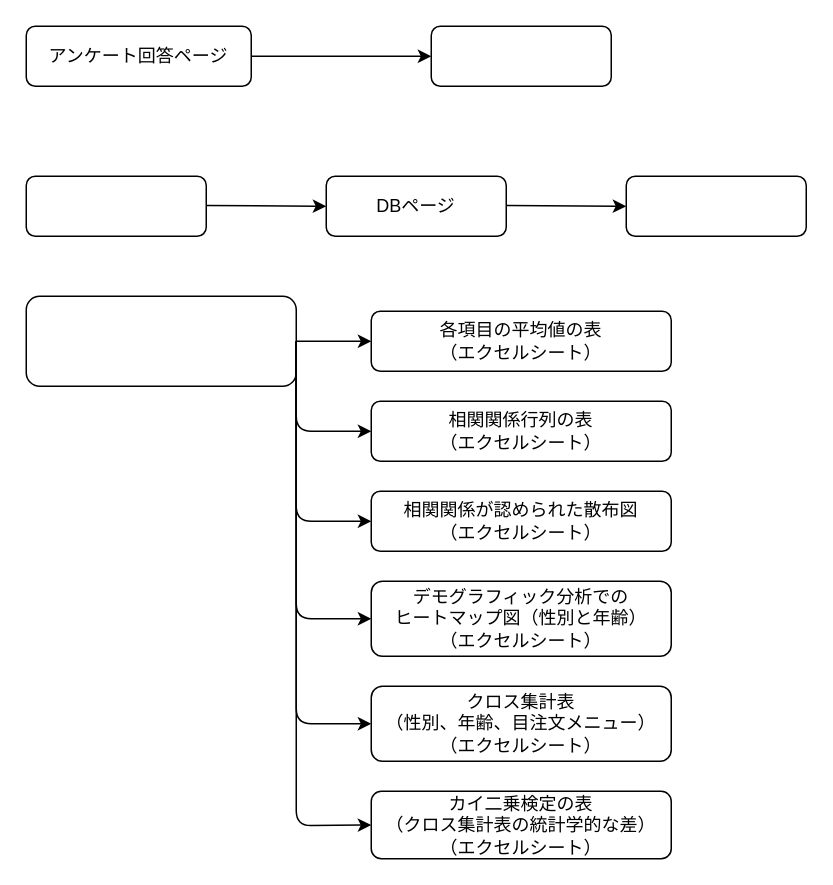
Image size: 833x885. Some labels were removed from this diagram. Here are the shapes that lost their labels. From the top down, the box of each, then its label:
(430, 25, 611, 86): 回答完了ページ
(25, 175, 206, 236): 管理者ページの ログインページ
(625, 175, 806, 236): 回答されたデータを閲覧できるページ
(25, 295, 296, 386): データ解析シート（エクセル）ダウンロードURLにアクセス
